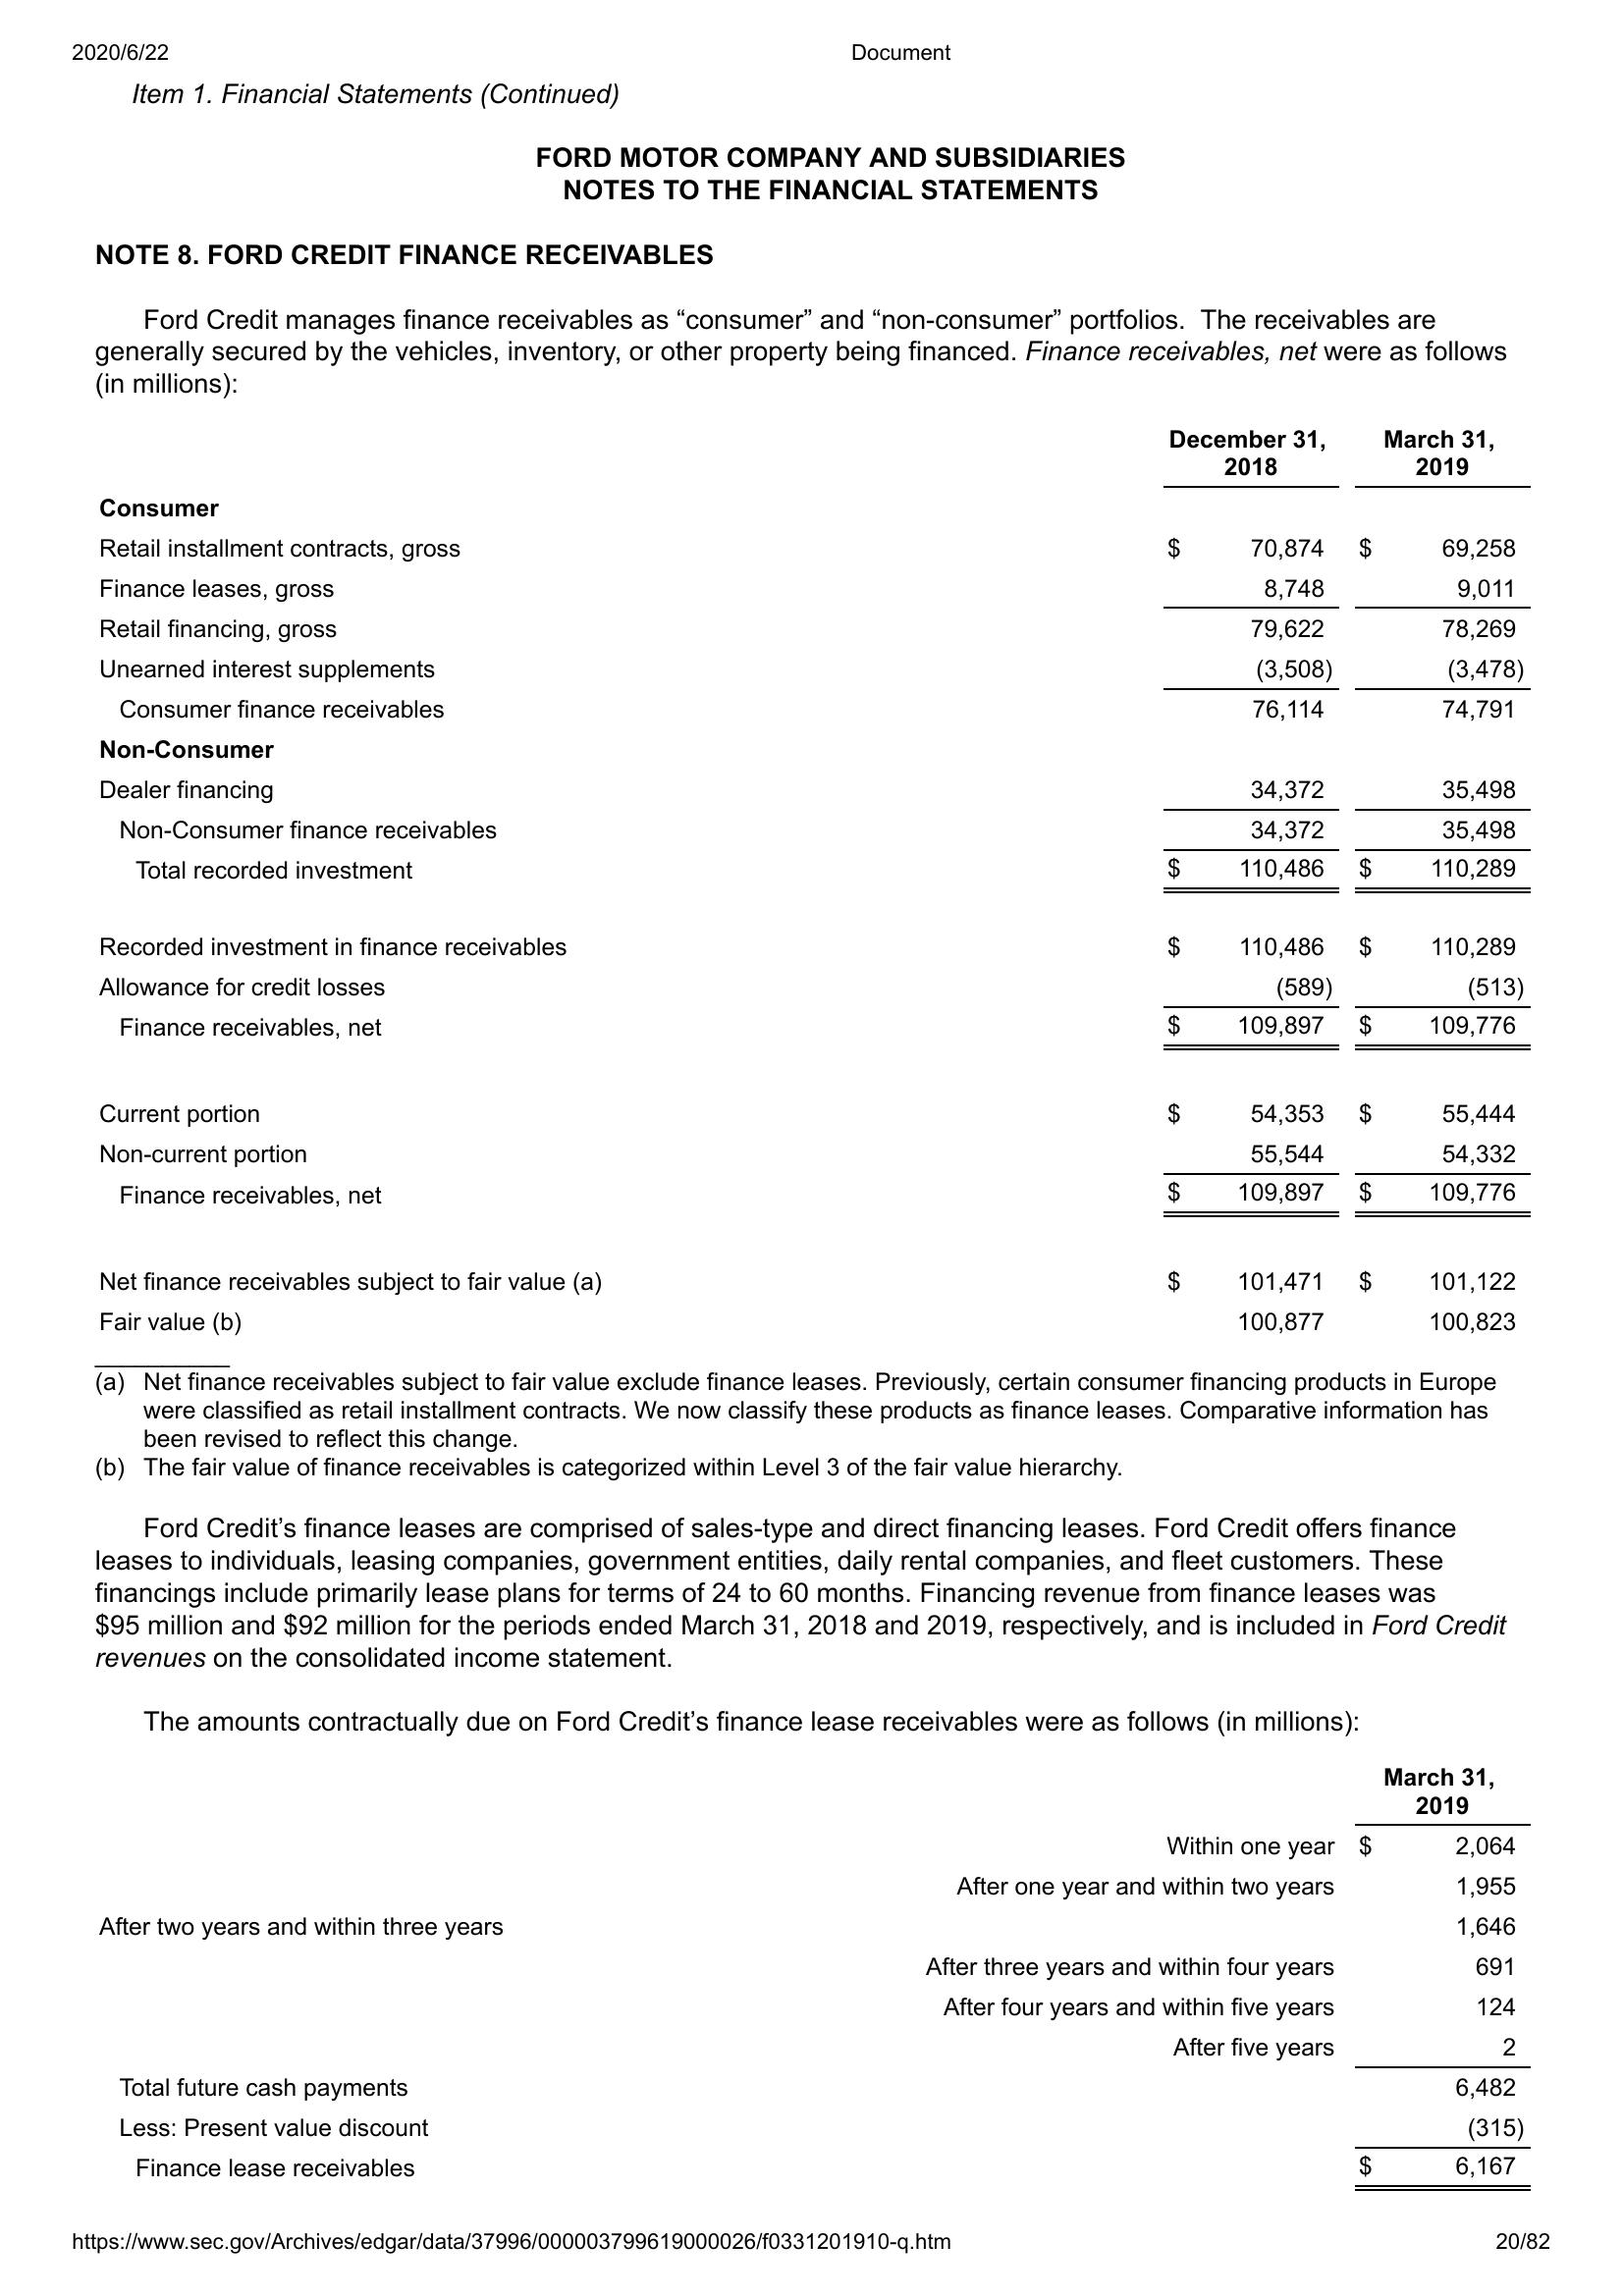table: (90, 421, 1539, 1223), (95, 1754, 1542, 2201)
